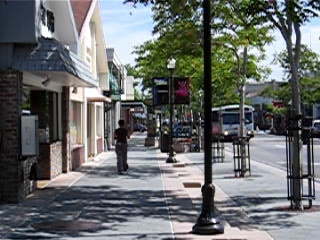person: (113, 119, 132, 176), (112, 119, 131, 176), (114, 119, 133, 176), (113, 118, 132, 175), (113, 120, 132, 177)
target_negative: (190, 49, 254, 127), (194, 117, 222, 227), (240, 114, 303, 145), (158, 168, 186, 235), (71, 44, 210, 56), (297, 84, 300, 88)
